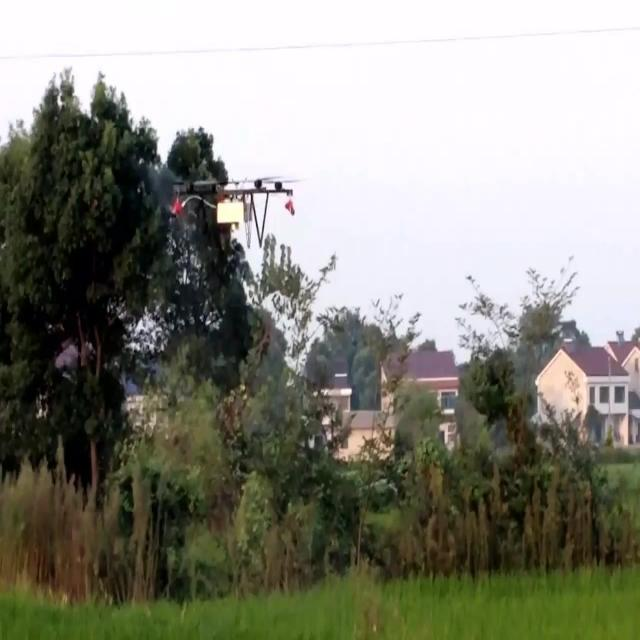UAV: (171, 177, 295, 291)
